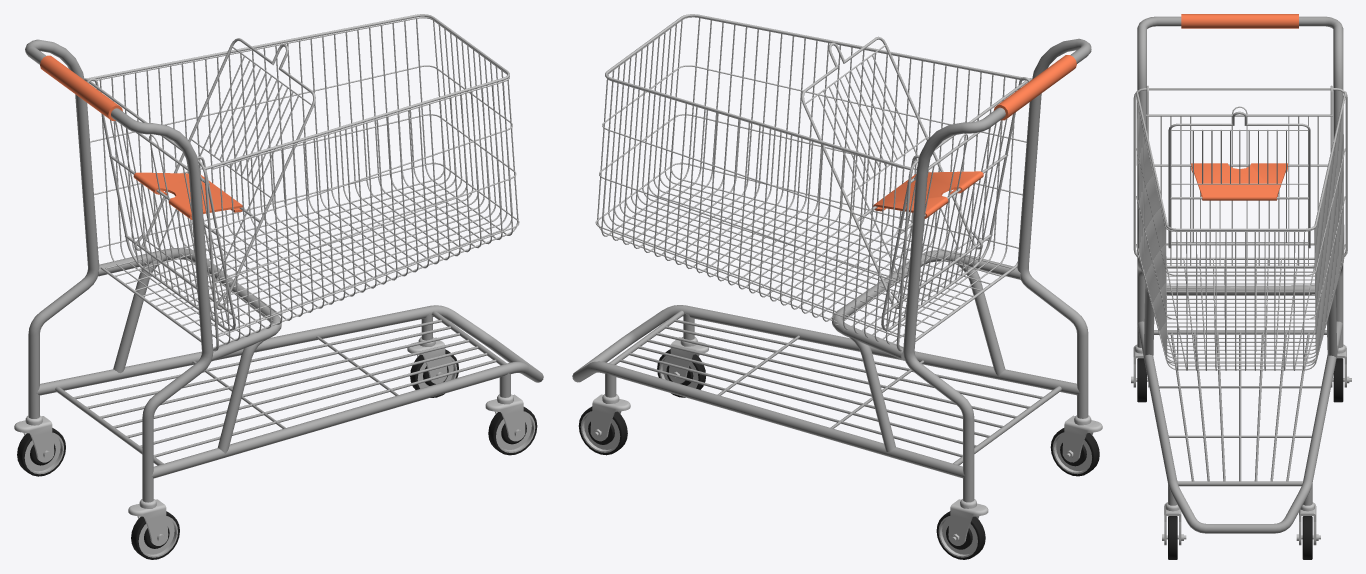
3 views of the same model, side by side, from view 1: azimuth 30°, elevation 25°; view 2: azimuth 150°, elevation 25°; view 3: azimuth 270°, elevation 25° (orthographic). The views are drawn at different scales.
Parts seen in each view (by area): view 1: Trim (×47), Stand (×9), Cart_Handle (×4), Seat_Wall (×2), Wheel_Clamp (×4), Seat, Drills; view 2: Trim (×44), Stand (×9), Cart_Handle (×4), Seat_Wall (×2), Wheel_Clamp (×4), Seat, Drills; view 3: Trim (×45), Stand (×12), Cart_Handle (×4), Seat, Seat_Wall (×2), Drills (×4), Wheel (×4), Wheel_Clamp (×2).
Boxes of the visible parts, x1,y1,x2,y2 form: Trim (×47): [84, 14, 519, 351]; Stand (×9): [36, 305, 543, 478]; Cart_Handle (×4): [25, 39, 281, 502]; Seat_Wall (×2): [134, 38, 315, 309]; Wheel_Clamp (×4): [14, 337, 525, 545]; Seat: [133, 172, 242, 219]; Drills: [87, 78, 235, 331]; Trim (×44): [595, 14, 1031, 351]; Stand (×9): [572, 305, 1080, 478]; Cart_Handle (×4): [832, 38, 1091, 502]; Seat_Wall (×2): [801, 36, 982, 308]; Wheel_Clamp (×4): [590, 337, 1102, 545]; Seat: [873, 171, 983, 218]; Drills: [881, 77, 1030, 331]; Trim (×45): [1133, 88, 1347, 370]; Stand (×12): [1137, 321, 1342, 533]; Cart_Handle (×4): [1137, 14, 1343, 357]; Seat: [1191, 163, 1287, 200]; Seat_Wall (×2): [1168, 111, 1310, 248]; Drills (×4): [1146, 85, 1332, 267]; Wheel (×4): [1137, 358, 1343, 559]; Wheel_Clamp (×2): [1164, 502, 1316, 545].
Size of the model in its own units: 45.34 by 22.5 by 42.56.
